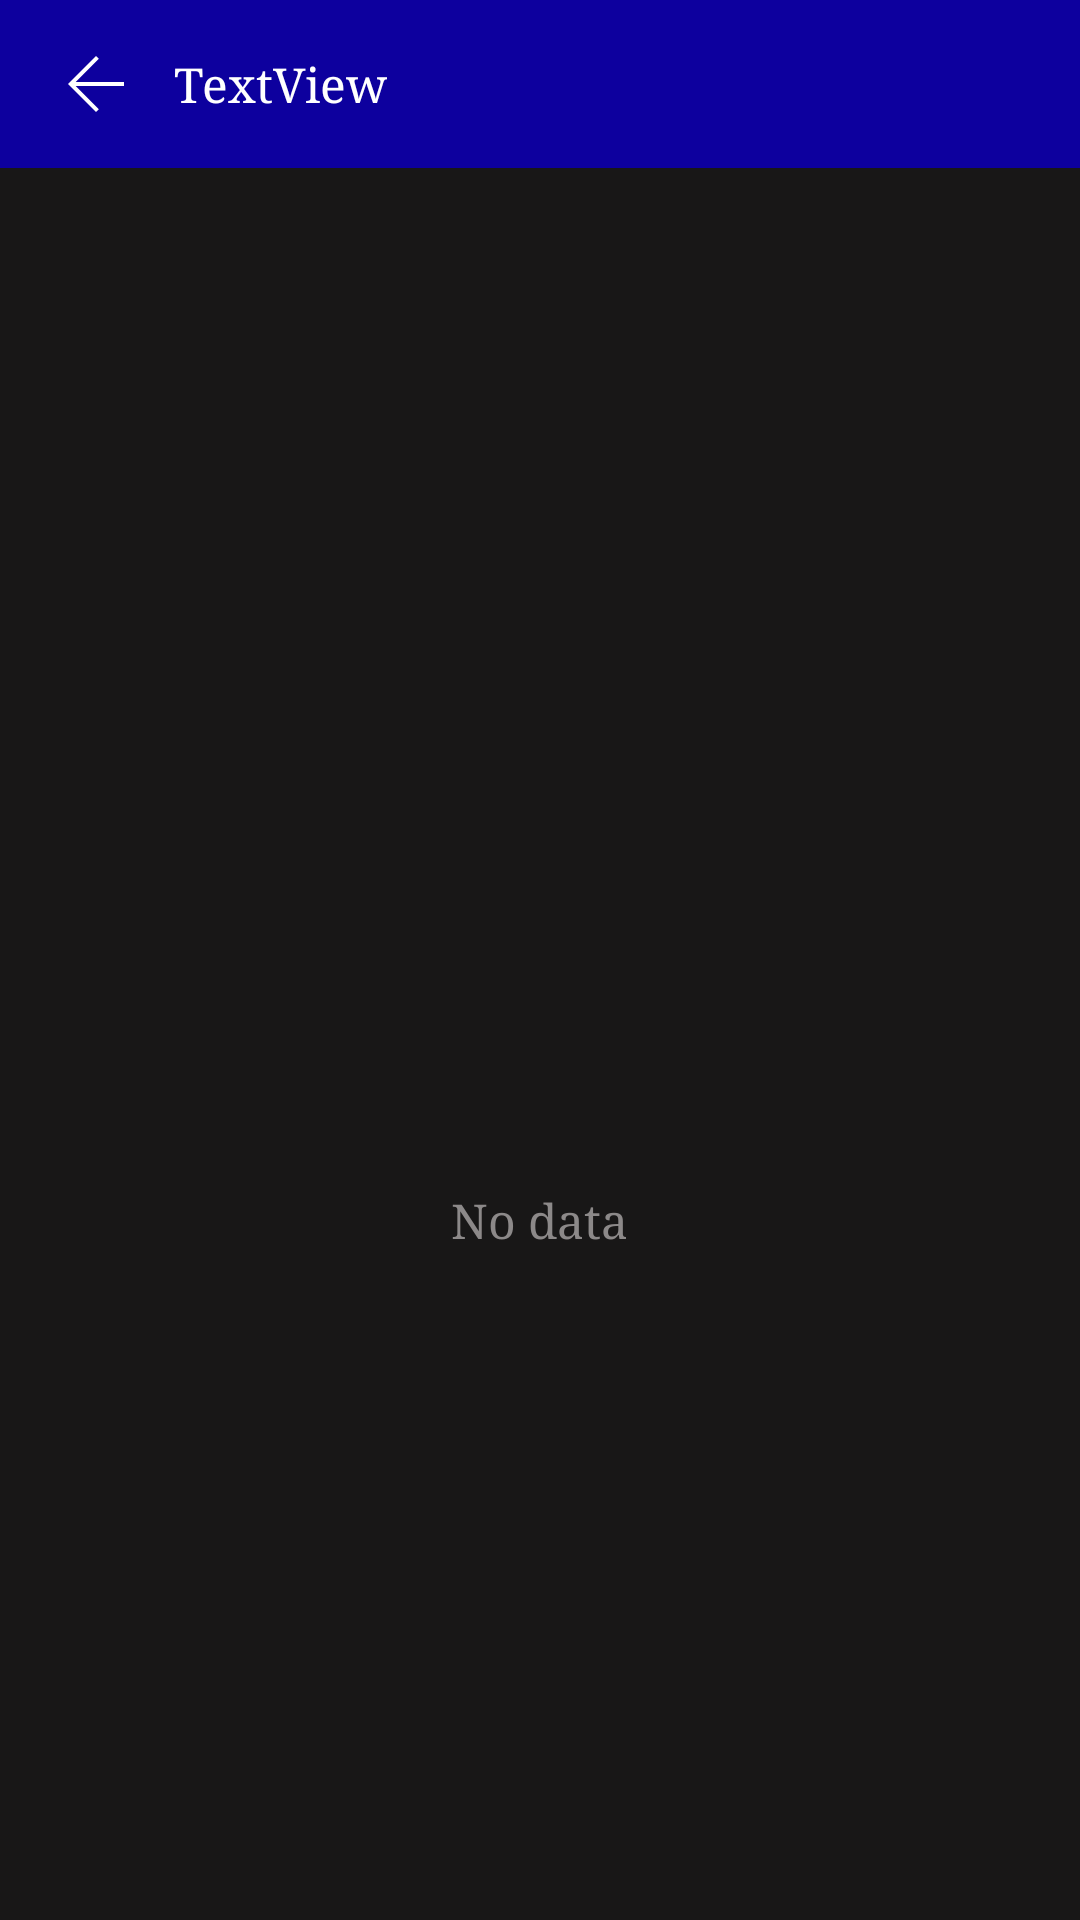

Named icons in this screenshot (1080x1920) and their bounding boxes, bbox=[x1, y1, x2, y2]:
arrow back: bbox=[68, 56, 124, 112]
